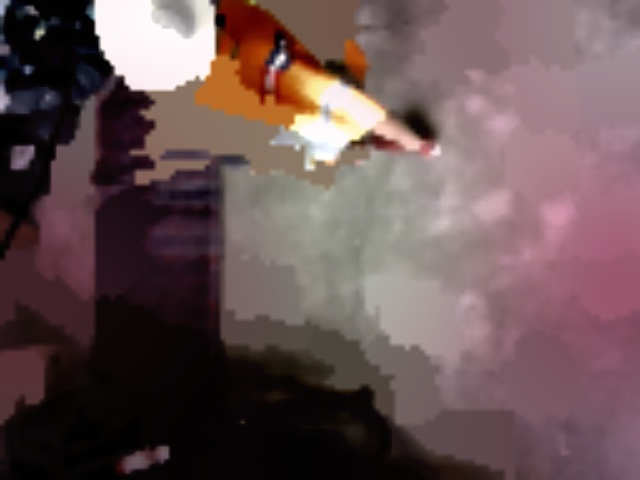three: (144, 5, 187, 50)
